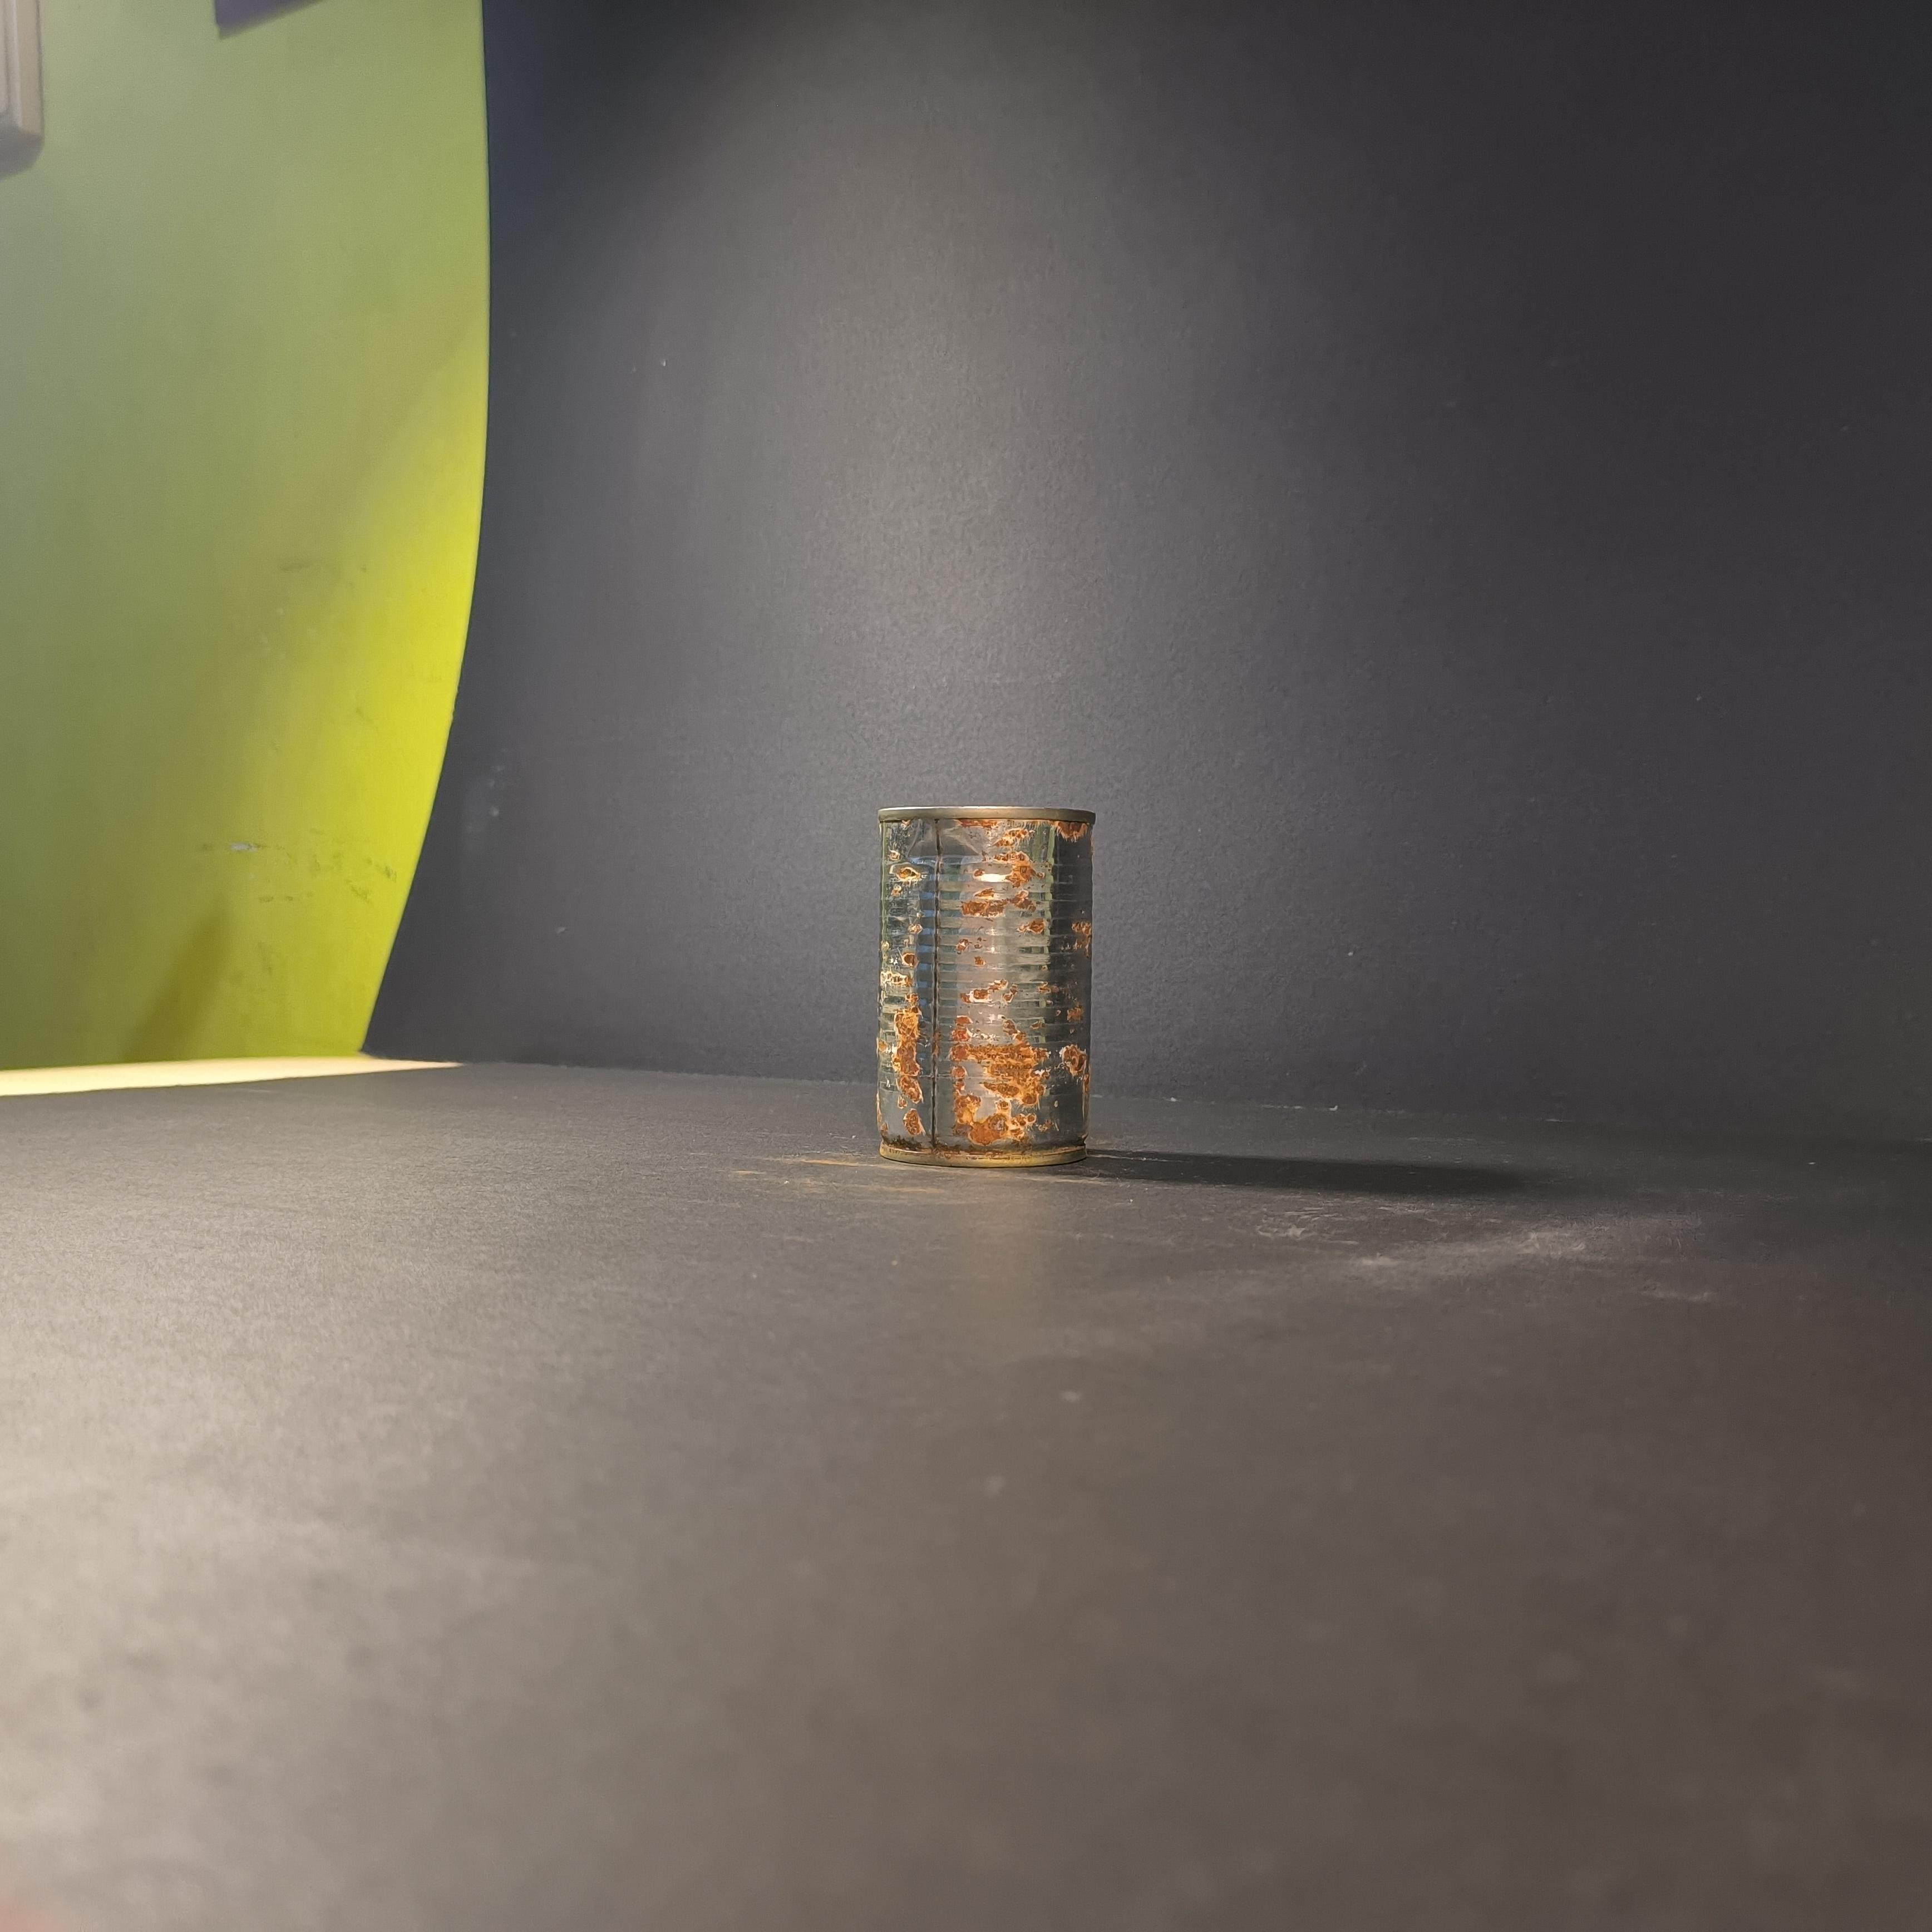Rusted: (863, 777, 1109, 1171)
